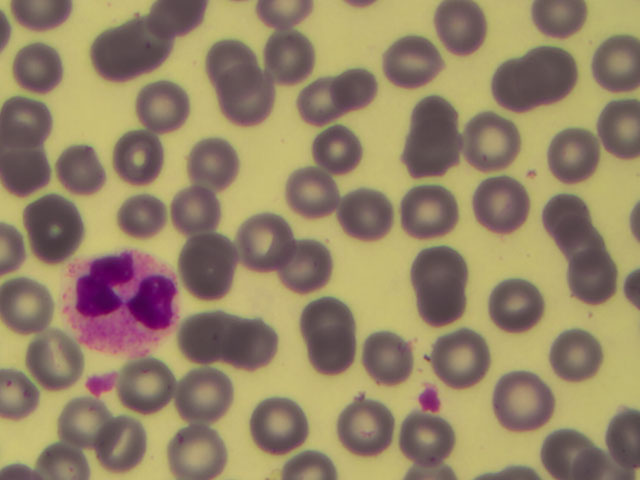Platelets: (82, 368, 121, 395), (417, 385, 447, 413)
RBC: (534, 423, 596, 480), (11, 42, 63, 92), (1, 99, 53, 149), (1, 139, 53, 189), (49, 146, 101, 196), (105, 135, 157, 185), (140, 82, 192, 132), (88, 36, 140, 86), (112, 16, 164, 66), (204, 36, 256, 86), (225, 70, 277, 120), (264, 31, 316, 81), (290, 74, 342, 124), (330, 59, 382, 109), (388, 35, 440, 85), (440, 4, 492, 54), (486, 59, 538, 109), (527, 41, 579, 91), (467, 115, 519, 165), (405, 128, 457, 178), (408, 92, 460, 142), (307, 123, 359, 173), (286, 164, 338, 214), (338, 189, 390, 239), (404, 184, 456, 234), (470, 178, 522, 228), (531, 187, 583, 237), (548, 131, 600, 181), (588, 95, 640, 145), (588, 33, 640, 83), (552, 218, 604, 268), (565, 254, 617, 304), (493, 279, 545, 329), (414, 277, 466, 327), (407, 240, 459, 290), (280, 242, 332, 292), (235, 217, 287, 267), (186, 251, 238, 301), (166, 189, 218, 239), (189, 136, 241, 186), (103, 197, 155, 247), (27, 201, 79, 251), (2, 283, 54, 333), (26, 330, 78, 380), (58, 398, 110, 448), (111, 417, 163, 467), (126, 360, 178, 410), (171, 370, 223, 420), (191, 312, 243, 362), (238, 329, 290, 379), (305, 293, 357, 343), (305, 329, 357, 379), (357, 333, 409, 383), (340, 395, 392, 445), (251, 396, 303, 446), (172, 430, 224, 480), (393, 412, 445, 462), (495, 380, 547, 430), (433, 330, 485, 380), (545, 328, 597, 378), (144, 1, 196, 50)
WBC: (65, 252, 182, 357)
